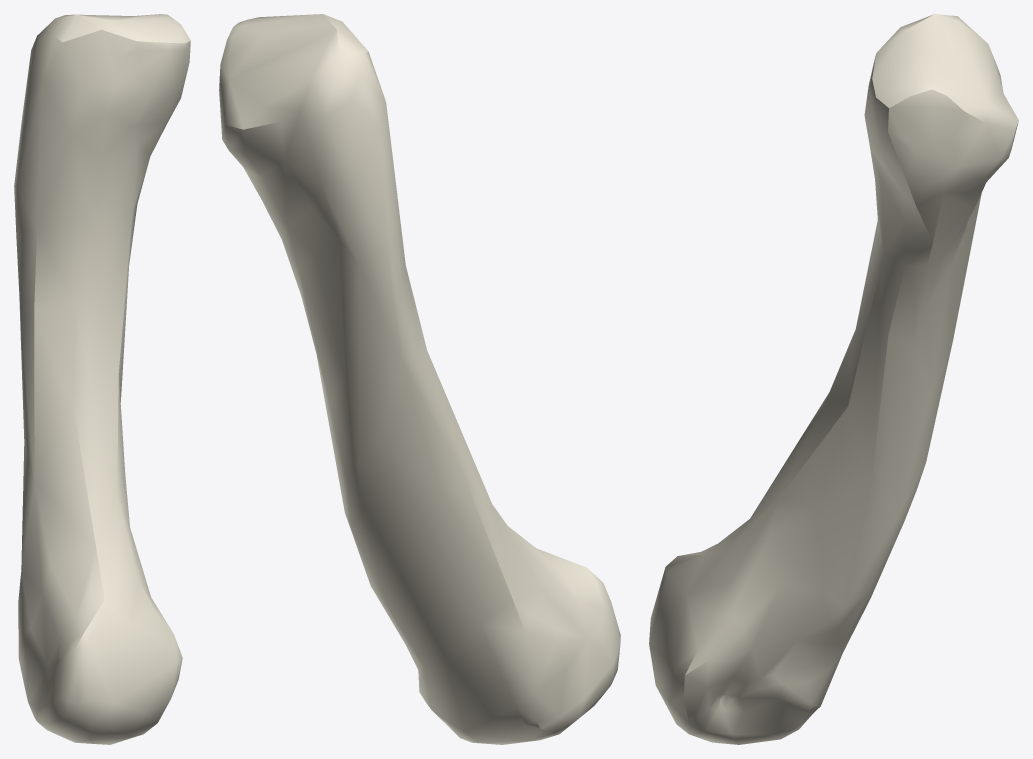
File: fma24473_fj3252.glb
3 views of the same model, side by side, from view 1: azimuth 30°, elevation 25°; view 2: azimuth 150°, elevation 25°; view 3: azimuth 270°, elevation 25° (orthographic). The views are drawn at different scales.
Visible parts, largest first — view 1: FMA24473_FJ3252; view 2: FMA24473_FJ3252; view 3: FMA24473_FJ3252.
Boxes of the visible parts, bbox=[...] form: FMA24473_FJ3252: bbox=[14, 14, 190, 744]; FMA24473_FJ3252: bbox=[219, 14, 620, 744]; FMA24473_FJ3252: bbox=[649, 14, 1018, 744].
Size of the model in its own units: 0.0201 by 0.0547 by 0.0242.
